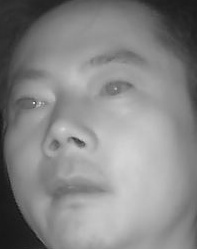eye: (94, 77, 133, 100), (12, 93, 47, 114)
mouth: (41, 167, 109, 210)
